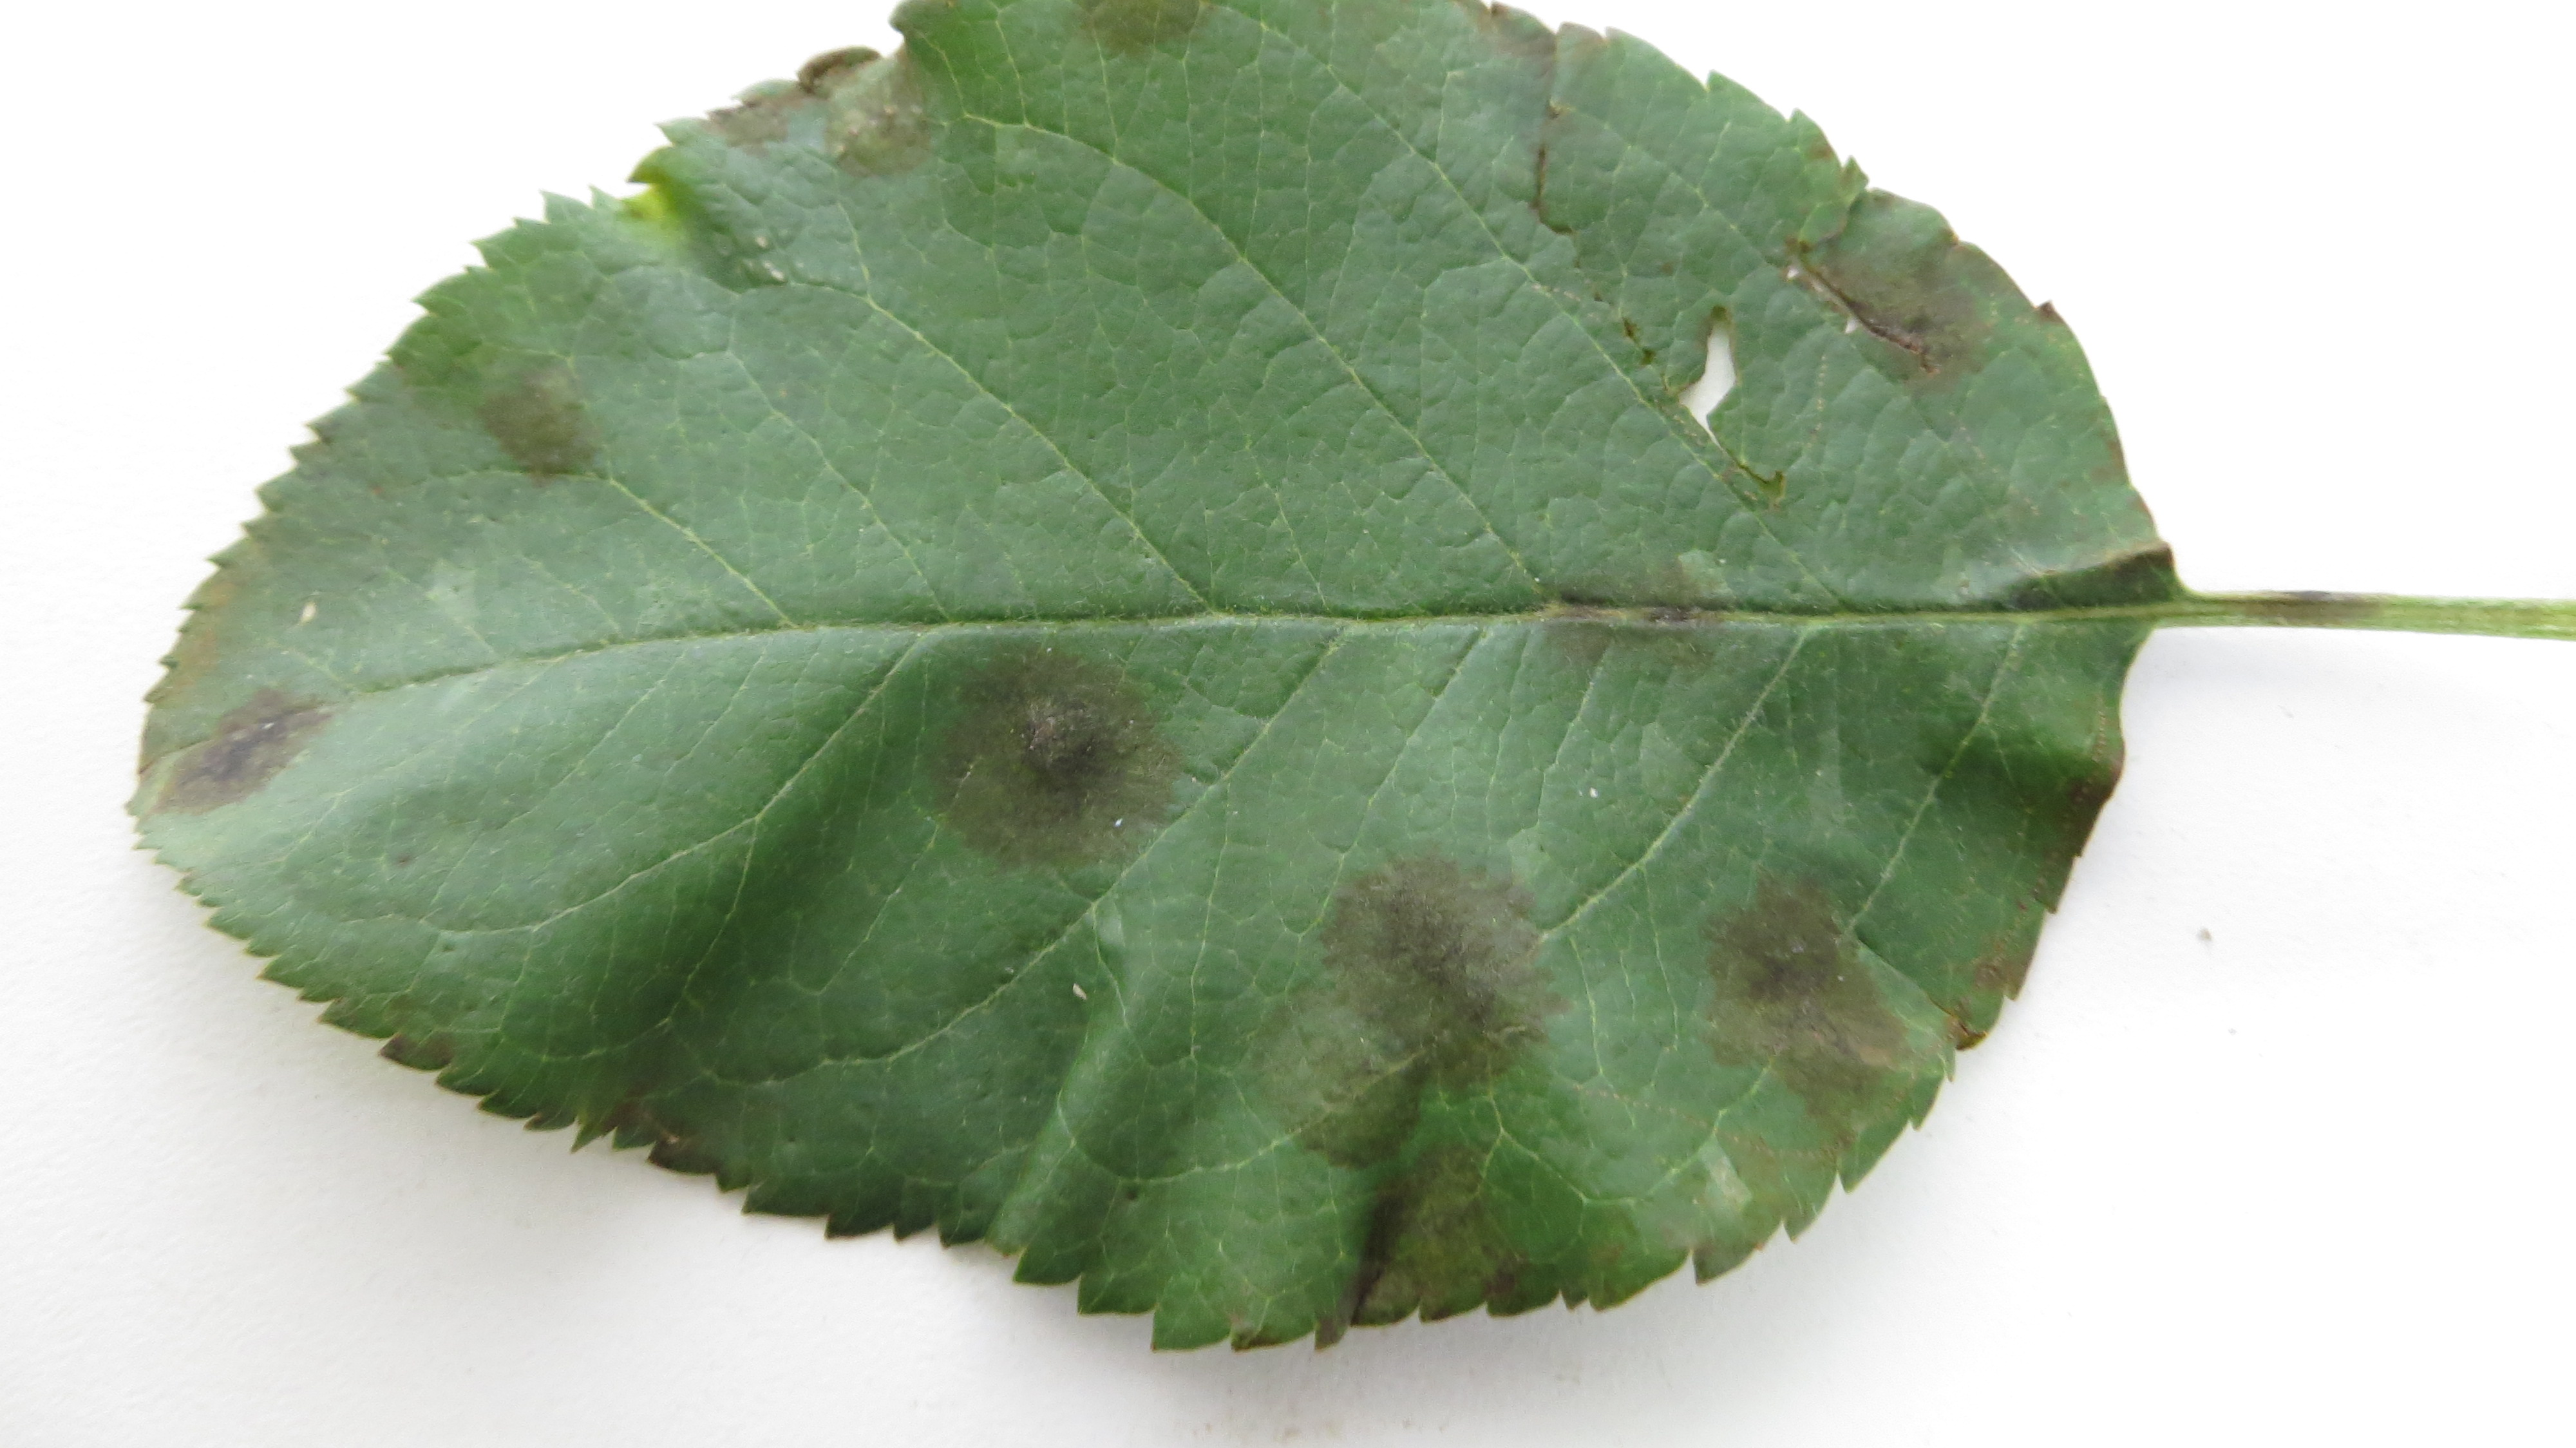sarna: (938, 637, 1180, 876), (1336, 848, 1559, 1096), (1713, 897, 1902, 1156), (1792, 204, 2008, 407), (1352, 1140, 1530, 1344), (1240, 995, 1415, 1167), (143, 682, 336, 830), (476, 358, 628, 497), (602, 1060, 748, 1202), (816, 44, 948, 193), (1516, 529, 1629, 667), (1937, 933, 2029, 1064), (359, 998, 478, 1099), (2022, 756, 2093, 919), (720, 53, 814, 159), (1058, 4, 1217, 62), (1635, 558, 1721, 662), (1723, 444, 1801, 529)
